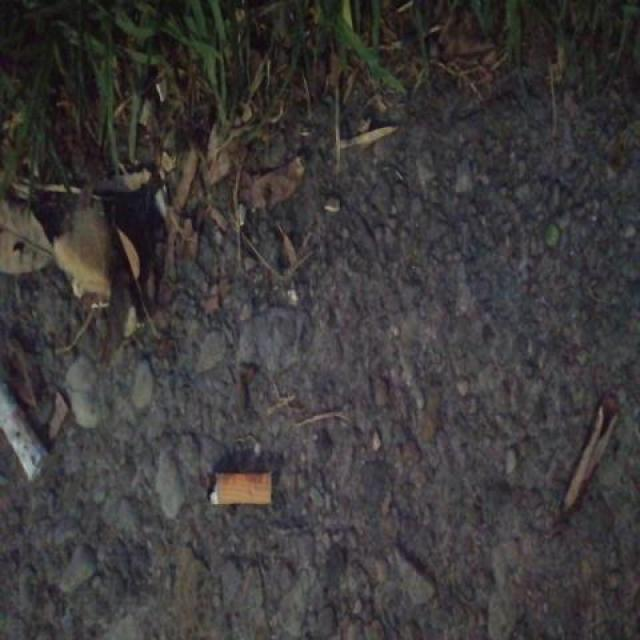non-organic waste: (0, 373, 53, 485), (205, 466, 278, 511)
